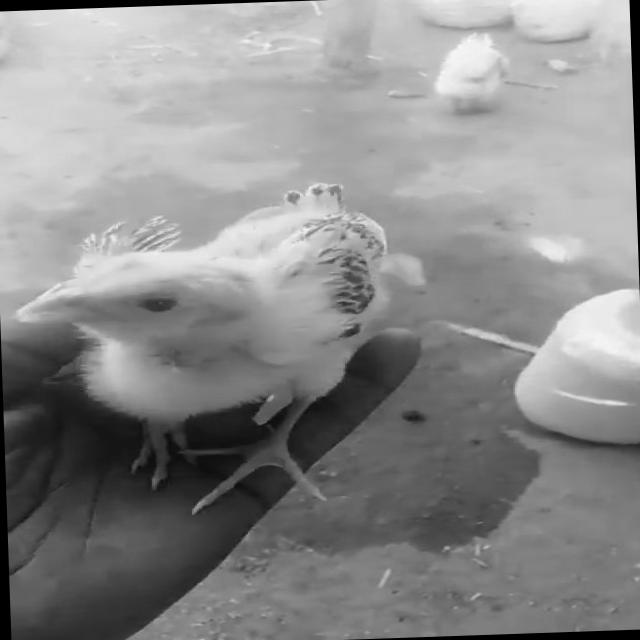newcastle: (0, 153, 415, 507)
